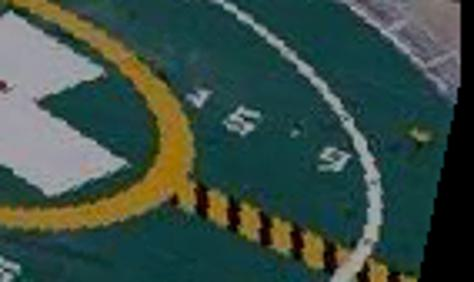Apron: (1, 1, 199, 234)
